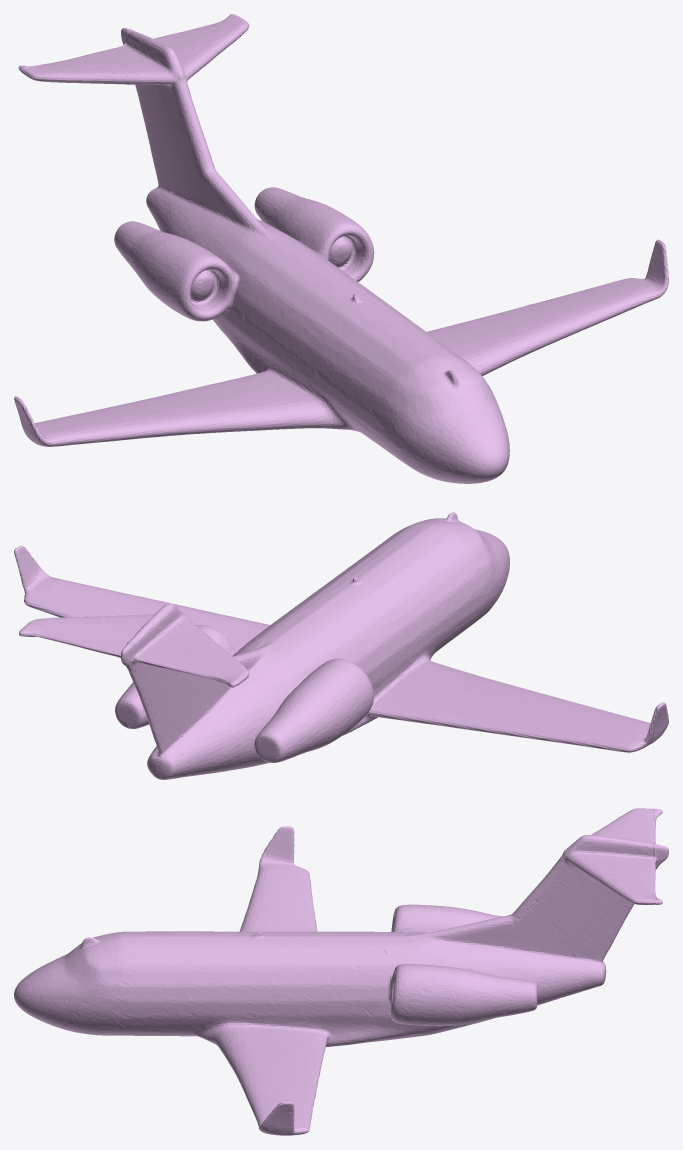
3 renders of one model, top to bottom at view 1: azimuth 30°, elevation 25°; view 2: azimuth 150°, elevation 25°; view 3: azimuth 270°, elevation 25°, orthographic. The views are drawn at different scales.
Parts seen in each view (by area): view 1: hondajet; view 2: hondajet; view 3: hondajet.
Boxes of the visible parts, <box> form: hondajet: <box>14,14,668,483</box>; hondajet: <box>14,512,668,779</box>; hondajet: <box>14,808,668,1135</box>.
Bounding box in the file's own units: 12.96 × 4.37 × 12.96.
